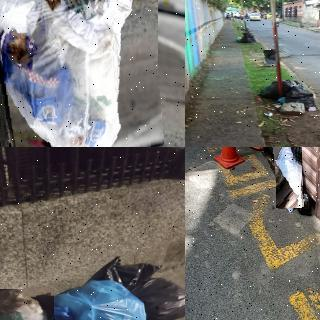Garbage: (0, 0, 163, 147), (102, 257, 185, 319), (42, 284, 148, 320), (0, 287, 55, 320), (274, 147, 303, 208), (260, 78, 300, 97), (287, 84, 317, 109), (294, 185, 312, 216), (241, 30, 258, 43), (264, 50, 277, 66), (277, 96, 286, 103), (236, 36, 243, 42), (300, 24, 304, 28)
